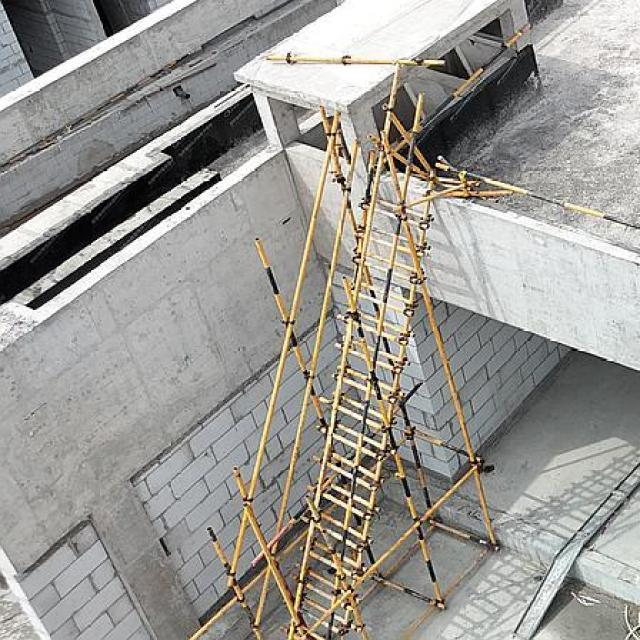edge_guardrail: (392, 22, 532, 154), (434, 162, 640, 228)
